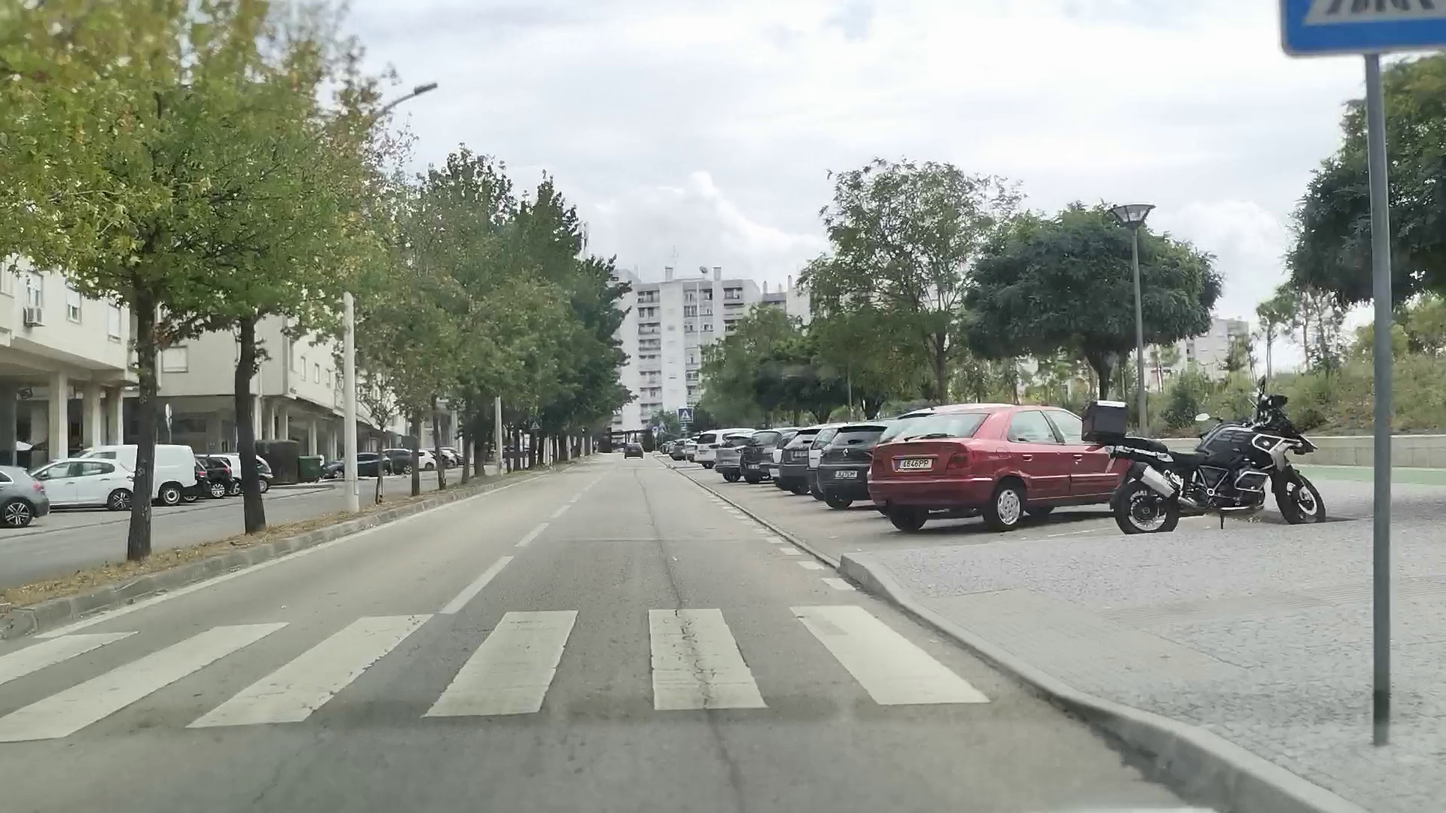Stairs: (0, 603, 989, 741)
